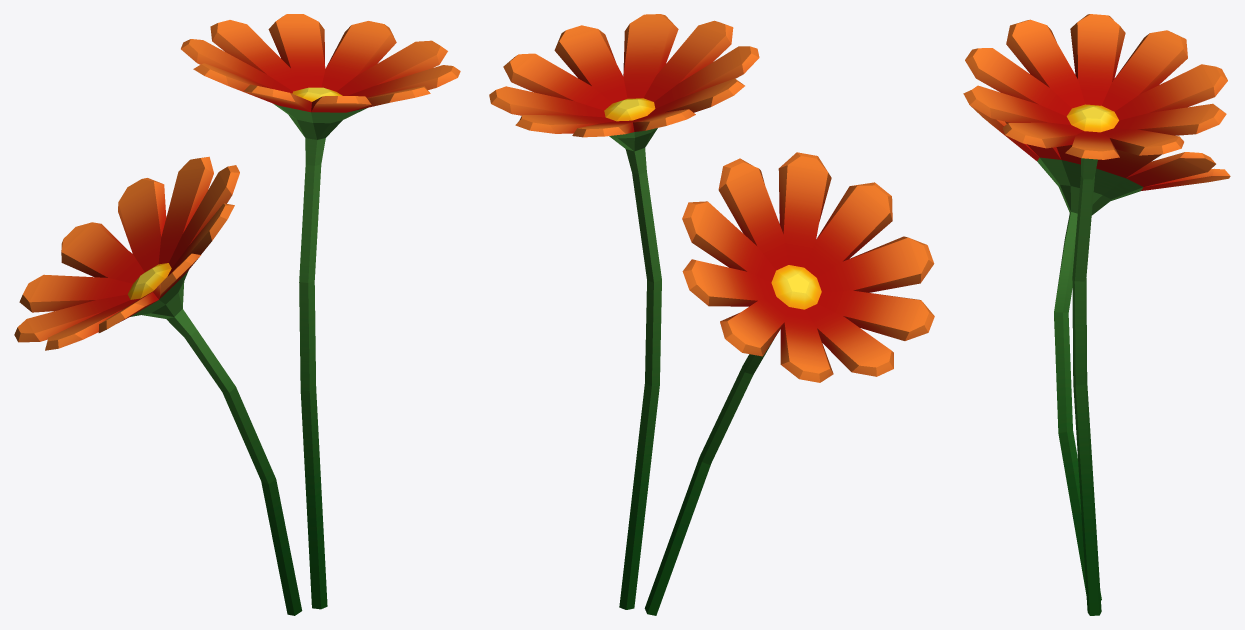
Rendered from Flower_Red_03.fbx.
3 renders of one model, left to right at view 1: azimuth 30°, elevation 25°; view 2: azimuth 150°, elevation 25°; view 3: azimuth 270°, elevation 25°, orthographic. The views are drawn at different scales.
Parts seen in each view (by area): view 1: Flower_Red_03; view 2: Flower_Red_03; view 3: Flower_Red_03.
Part boxes in pixels (<box>): Flower_Red_03: <box>14,14,460,615</box>; Flower_Red_03: <box>489,14,934,615</box>; Flower_Red_03: <box>963,14,1230,615</box>.
Size of the model in its own units: 34.19 by 44.83 by 19.75.
